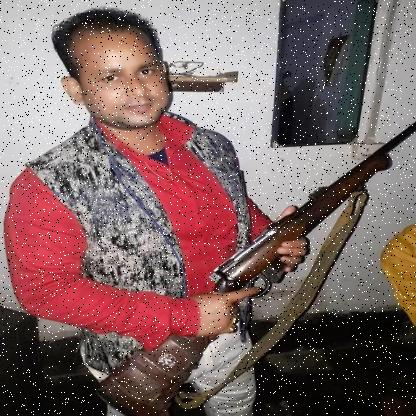rifle: (90, 121, 416, 415)
